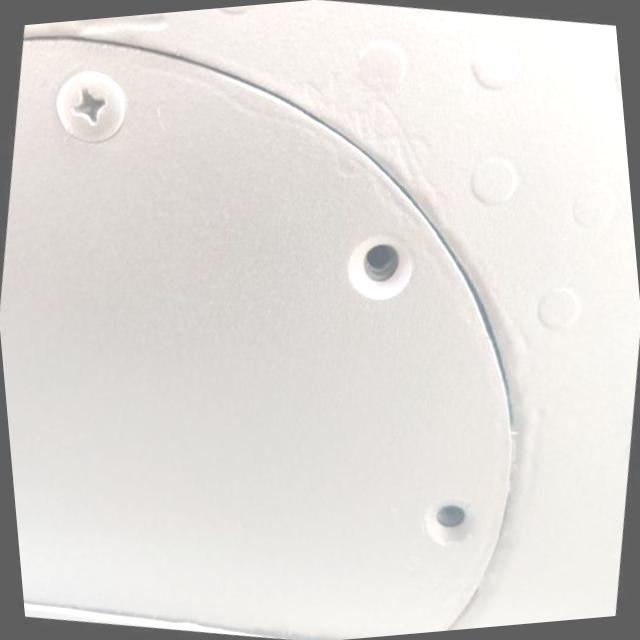Missing Fastener: (347, 232, 416, 300), (424, 496, 480, 544)
